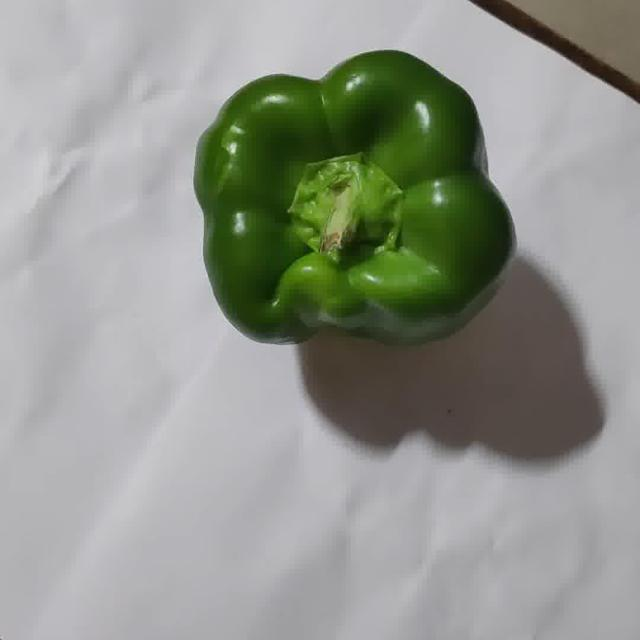Bell Pepper: (194, 50, 512, 341)
